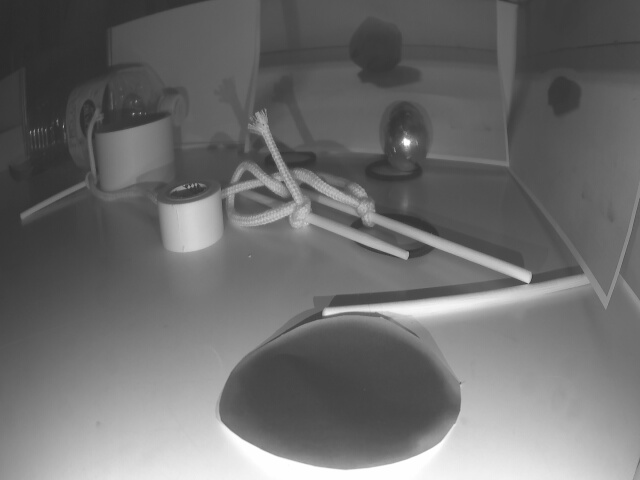Live: (382, 98, 431, 170)
